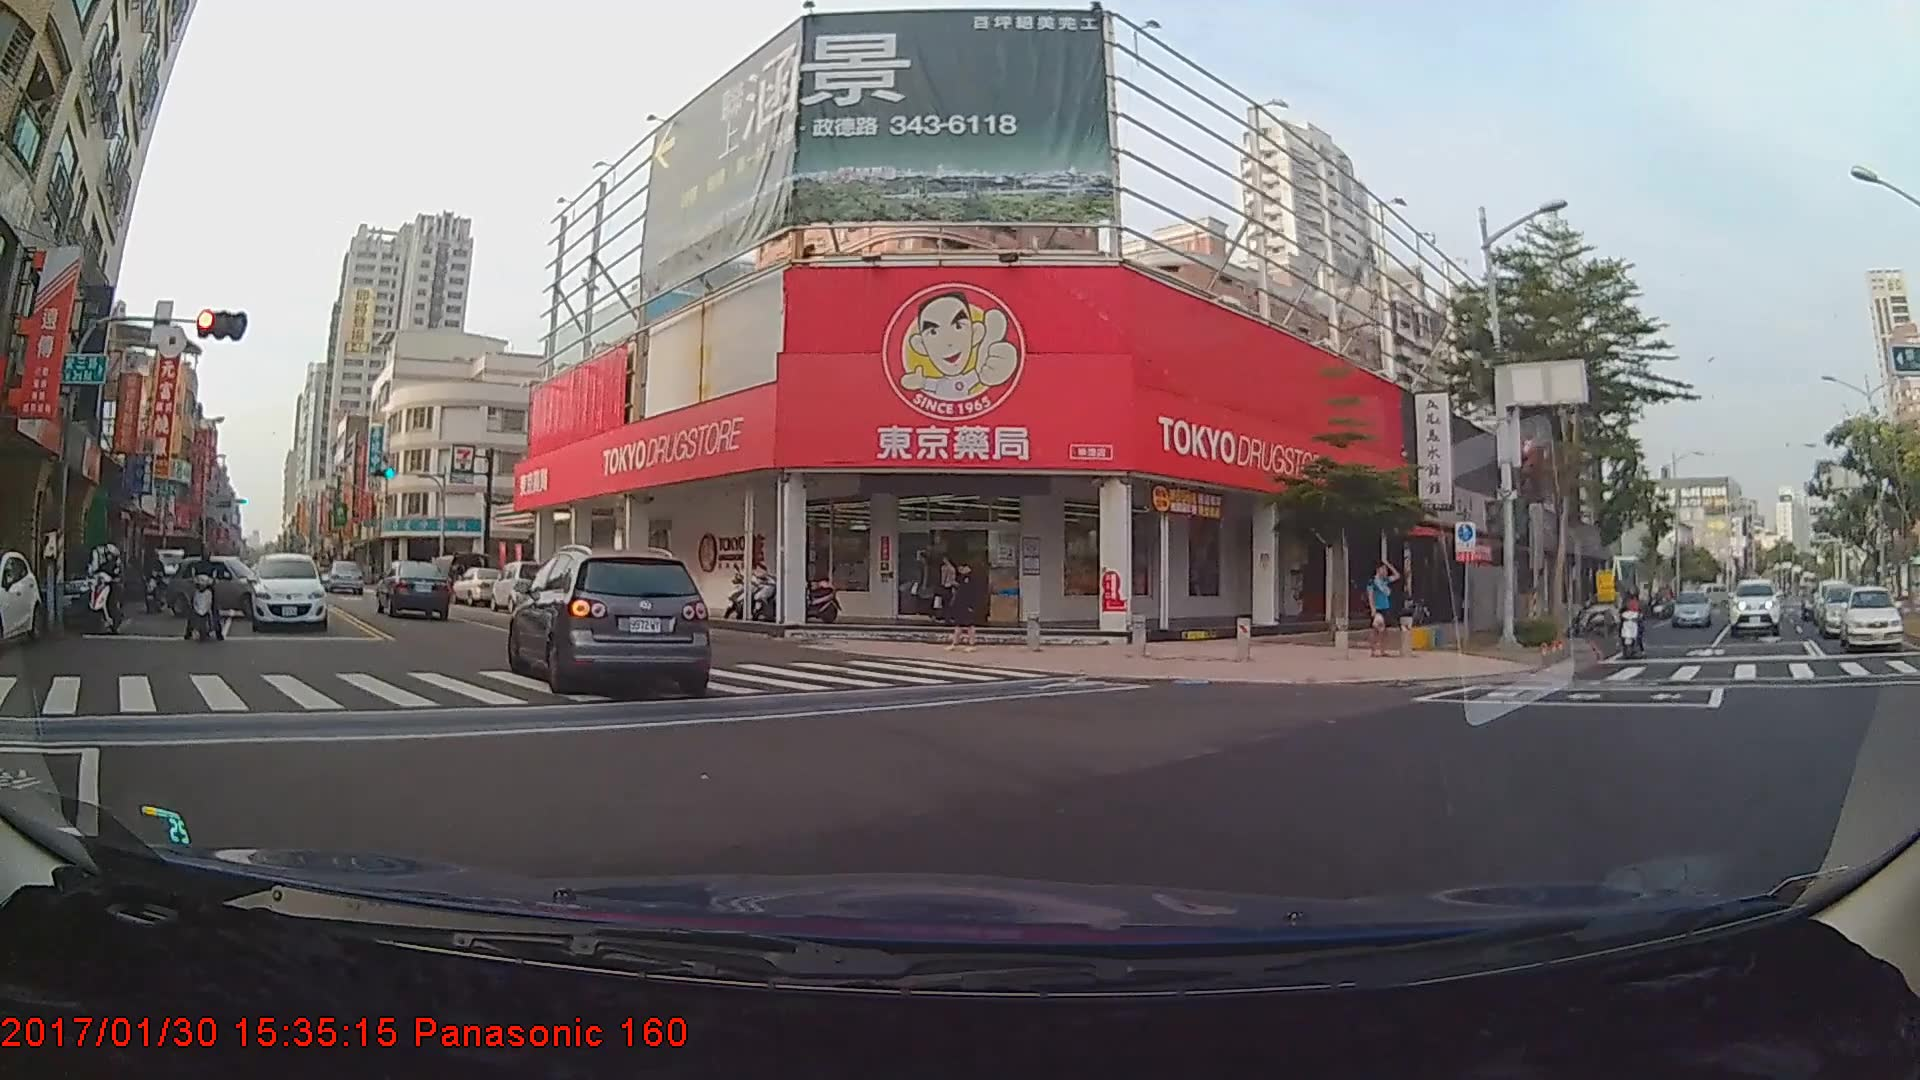pedestrian: (1368, 558, 1404, 663), (946, 563, 988, 656), (910, 550, 943, 628), (937, 555, 958, 624)
rider: (179, 549, 229, 650), (82, 546, 134, 639), (1613, 588, 1651, 658)
vehicle: (508, 547, 708, 692), (164, 554, 277, 619), (247, 557, 328, 637), (377, 559, 450, 619), (1841, 585, 1904, 651), (487, 560, 553, 614), (1816, 581, 1878, 637), (1730, 578, 1779, 635), (449, 566, 509, 605), (1671, 589, 1712, 626)
